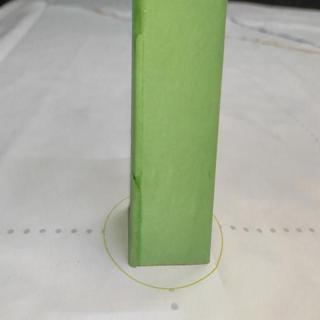greenbox: (131, 0, 228, 276)
